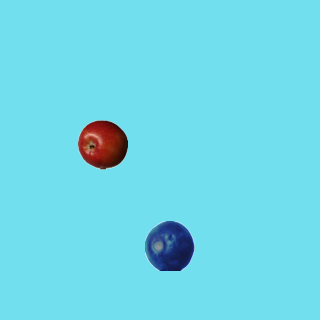Apple Braeburn: (77, 119, 127, 169)
Huckleberry: (144, 220, 194, 270)
